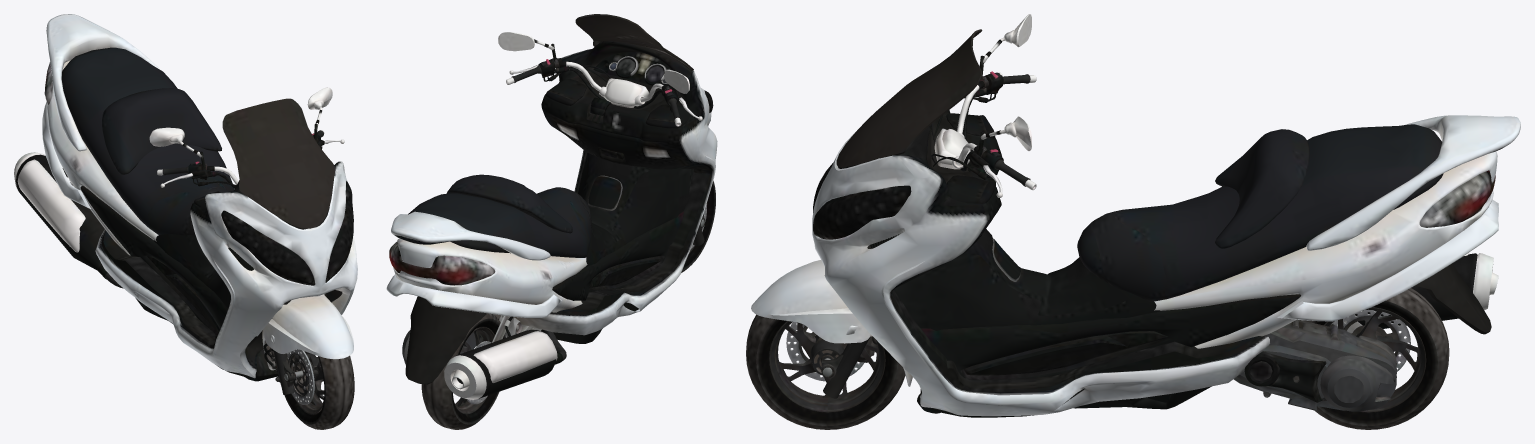
The model's file is ride_skywave.glb.
3 views of the same model, side by side, from view 1: azimuth 30°, elevation 25°; view 2: azimuth 150°, elevation 25°; view 3: azimuth 270°, elevation 25° (orthographic). The views are drawn at different scales.
Parts seen in each view (by area): view 1: body, wheelF; view 2: body, wheelR, wheelF; view 3: body, wheelF, wheelR.
Part boxes in pixels (box(x1,y1,x2,y2)): body: box(14, 14, 357, 405); wheelF: box(278, 349, 354, 429); body: box(386, 14, 717, 406); wheelR: box(421, 313, 505, 429); wheelF: box(681, 181, 715, 272); body: box(751, 14, 1520, 417); wheelF: box(746, 314, 905, 429); wheelR: box(1300, 288, 1449, 429).
Size of the model in its own units: 0.7997 by 1.18 by 2.15.
2 materials, 2 textured.
